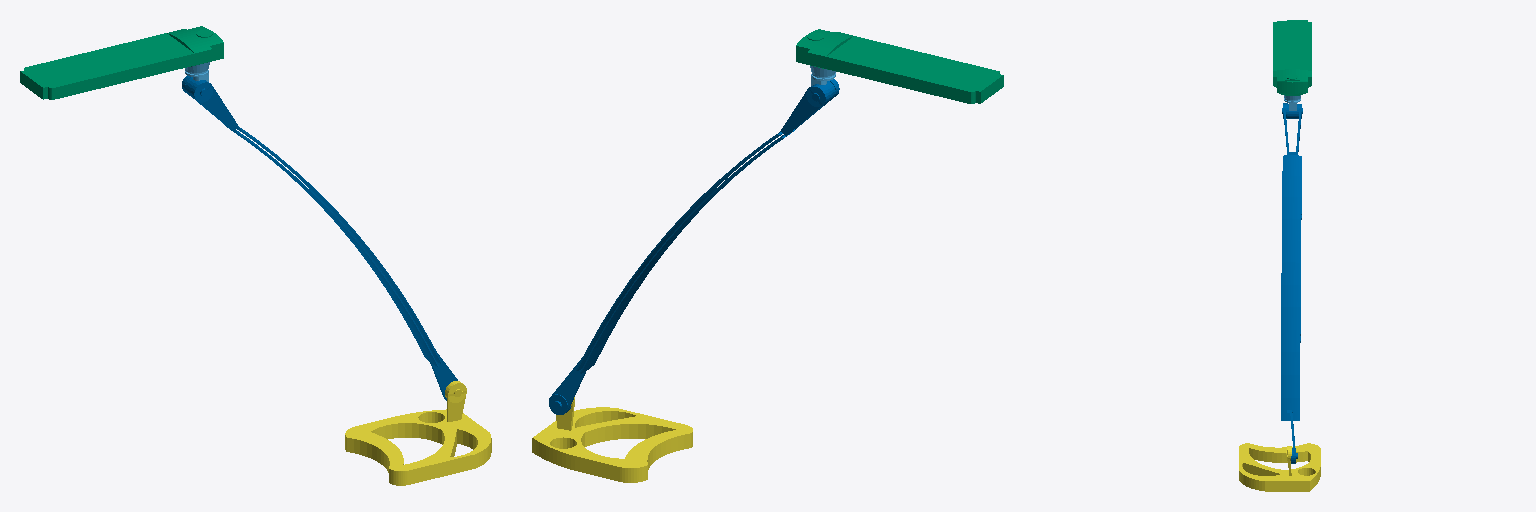
URDF robot description (partnet_7c0e5f39eeaa5d6cef9b6f306f98b0e9):
<?xml version="1.0" ?>
<robot name="partnet_7c0e5f39eeaa5d6cef9b6f306f98b0e9">
	<link name="base"/>
	<link name="link_0">
		<visual name="lamp_neck-32">
			<origin xyz="0.04417548124566981 -0.47992701720036884 -0.25464214752165326"/>
			<geometry>
				<mesh filename="textured_objs/original-5.obj"/>
			</geometry>
		</visual>
		<visual name="lamp_neck-32">
			<origin xyz="0.04417548124566981 -0.47992701720036884 -0.25464214752165326"/>
			<geometry>
				<mesh filename="textured_objs/original-11.obj"/>
			</geometry>
		</visual>
		<collision>
			<origin xyz="0.04417548124566981 -0.47992701720036884 -0.25464214752165326"/>
			<geometry>
				<mesh filename="textured_objs/original-5.obj"/>
			</geometry>
		</collision>
		<collision>
			<origin xyz="0.04417548124566981 -0.47992701720036884 -0.25464214752165326"/>
			<geometry>
				<mesh filename="textured_objs/original-11.obj"/>
			</geometry>
		</collision>
	</link>
	<joint name="joint_0" type="revolute">
		<origin xyz="-0.049152008595078775 1.1152077396443616 0.8157426850775318"/>
		<axis xyz="0.9965824550846449 0.06406323437124593 0.052147025028822"/>
		<child link="link_0"/>
		<parent link="link_3"/>
		<limit lower="-0.7853981633974483" upper="0.7853981633974483"/>
	</joint>
	<link name="link_1">
		<visual name="lamp_shade-23">
			<origin xyz="0.0212718603029297 -2.3345738997071403e-05 -0.23859540556078618"/>
			<geometry>
				<mesh filename="textured_objs/original-9.obj"/>
			</geometry>
		</visual>
		<visual name="light_bulb-31">
			<origin xyz="0.0212718603029297 -2.3345738997071403e-05 -0.23859540556078618"/>
			<geometry>
				<mesh filename="textured_objs/original-7.obj"/>
			</geometry>
		</visual>
		<collision>
			<origin xyz="0.0212718603029297 -2.3345738997071403e-05 -0.23859540556078618"/>
			<geometry>
				<mesh filename="textured_objs/original-9.obj"/>
			</geometry>
		</collision>
		<collision>
			<origin xyz="0.0212718603029297 -2.3345738997071403e-05 -0.23859540556078618"/>
			<geometry>
				<mesh filename="textured_objs/original-7.obj"/>
			</geometry>
		</collision>
	</link>
	<joint name="joint_1" type="revolute">
		<origin xyz="0.022903620942740115 -0.47990367146137175 -0.016046741960867084"/>
		<axis xyz="-0.0010974933942700111 -0.9999993977539435 0"/>
		<child link="link_1"/>
		<parent link="link_0"/>
		<limit lower="-1.5707963267948966" upper="1.5707963267948966"/>
	</joint>
	<link name="link_2">
		<visual name="lamp_base_part-26">
			<origin xyz="0 0 0"/>
			<geometry>
				<mesh filename="textured_objs/original-22.obj"/>
			</geometry>
		</visual>
		<visual name="other_leaf-17">
			<origin xyz="0 0 0"/>
			<geometry>
				<mesh filename="textured_objs/original-18.obj"/>
			</geometry>
		</visual>
		<visual name="other_leaf-17">
			<origin xyz="0 0 0"/>
			<geometry>
				<mesh filename="textured_objs/original-17.obj"/>
			</geometry>
		</visual>
		<visual name="other_leaf-17">
			<origin xyz="0 0 0"/>
			<geometry>
				<mesh filename="textured_objs/original-15.obj"/>
			</geometry>
		</visual>
		<collision>
			<origin xyz="0 0 0"/>
			<geometry>
				<mesh filename="textured_objs/original-22.obj"/>
			</geometry>
		</collision>
		<collision>
			<origin xyz="0 0 0"/>
			<geometry>
				<mesh filename="textured_objs/original-18.obj"/>
			</geometry>
		</collision>
		<collision>
			<origin xyz="0 0 0"/>
			<geometry>
				<mesh filename="textured_objs/original-17.obj"/>
			</geometry>
		</collision>
		<collision>
			<origin xyz="0 0 0"/>
			<geometry>
				<mesh filename="textured_objs/original-15.obj"/>
			</geometry>
		</collision>
	</link>
	<joint name="joint_2" type="fixed">
		<origin rpy="1.570796326794897 0 -1.570796326794897" xyz="0 0 0"/>
		<child link="link_2"/>
		<parent link="base"/>
	</joint>
	<link name="link_3">
		<visual name="lamp_arm_straight_bar-38">
			<origin xyz="-0.0049765273494089615 0.6352807224439927 0.5611005375558785"/>
			<geometry>
				<mesh filename="textured_objs/original-10.obj"/>
			</geometry>
		</visual>
		<visual name="lamp_arm_straight_bar-38">
			<origin xyz="-0.0049765273494089615 0.6352807224439927 0.5611005375558785"/>
			<geometry>
				<mesh filename="textured_objs/original-4.obj"/>
			</geometry>
		</visual>
		<visual name="lamp_arm_straight_bar-38">
			<origin xyz="-0.0049765273494089615 0.6352807224439927 0.5611005375558785"/>
			<geometry>
				<mesh filename="textured_objs/original-6.obj"/>
			</geometry>
		</visual>
		<visual name="lamp_arm_straight_bar-38">
			<origin xyz="-0.0049765273494089615 0.6352807224439927 0.5611005375558785"/>
			<geometry>
				<mesh filename="textured_objs/original-8.obj"/>
			</geometry>
		</visual>
		<visual name="lamp_arm_straight_bar-38">
			<origin xyz="-0.0049765273494089615 0.6352807224439927 0.5611005375558785"/>
			<geometry>
				<mesh filename="textured_objs/original-20.obj"/>
			</geometry>
		</visual>
		<visual name="lamp_joint-13">
			<origin xyz="-0.0049765273494089615 0.6352807224439927 0.5611005375558785"/>
			<geometry>
				<mesh filename="textured_objs/original-2.obj"/>
			</geometry>
		</visual>
		<visual name="lamp_arm_straight_bar-37">
			<origin xyz="-0.0049765273494089615 0.6352807224439927 0.5611005375558785"/>
			<geometry>
				<mesh filename="textured_objs/original-19.obj"/>
			</geometry>
		</visual>
		<visual name="lamp_arm_straight_bar-37">
			<origin xyz="-0.0049765273494089615 0.6352807224439927 0.5611005375558785"/>
			<geometry>
				<mesh filename="textured_objs/original-13.obj"/>
			</geometry>
		</visual>
		<collision>
			<origin xyz="-0.0049765273494089615 0.6352807224439927 0.5611005375558785"/>
			<geometry>
				<mesh filename="textured_objs/original-10.obj"/>
			</geometry>
		</collision>
		<collision>
			<origin xyz="-0.0049765273494089615 0.6352807224439927 0.5611005375558785"/>
			<geometry>
				<mesh filename="textured_objs/original-4.obj"/>
			</geometry>
		</collision>
		<collision>
			<origin xyz="-0.0049765273494089615 0.6352807224439927 0.5611005375558785"/>
			<geometry>
				<mesh filename="textured_objs/original-6.obj"/>
			</geometry>
		</collision>
		<collision>
			<origin xyz="-0.0049765273494089615 0.6352807224439927 0.5611005375558785"/>
			<geometry>
				<mesh filename="textured_objs/original-8.obj"/>
			</geometry>
		</collision>
		<collision>
			<origin xyz="-0.0049765273494089615 0.6352807224439927 0.5611005375558785"/>
			<geometry>
				<mesh filename="textured_objs/original-20.obj"/>
			</geometry>
		</collision>
		<collision>
			<origin xyz="-0.0049765273494089615 0.6352807224439927 0.5611005375558785"/>
			<geometry>
				<mesh filename="textured_objs/original-2.obj"/>
			</geometry>
		</collision>
		<collision>
			<origin xyz="-0.0049765273494089615 0.6352807224439927 0.5611005375558785"/>
			<geometry>
				<mesh filename="textured_objs/original-19.obj"/>
			</geometry>
		</collision>
		<collision>
			<origin xyz="-0.0049765273494089615 0.6352807224439927 0.5611005375558785"/>
			<geometry>
				<mesh filename="textured_objs/original-13.obj"/>
			</geometry>
		</collision>
	</link>
	<joint name="joint_3" type="revolute">
		<origin xyz="0.0049765273494089615 -0.6352807224439927 -0.5611005375558785"/>
		<axis xyz="0.9999050851807876 -0.00385092282875942 0.013228417251101568"/>
		<child link="link_3"/>
		<parent link="link_2"/>
		<limit lower="-0.7853981633974483" upper="0.3490658503988659"/>
	</joint>
</robot>

--- Render facts (derived) ---
Views: 3 orthographic renders of the robot side by side, from view 1: azimuth 30°, elevation 25°; view 2: azimuth 150°, elevation 25°; view 3: azimuth 270°, elevation 25°.
Robot: partnet_7c0e5f39eeaa5d6cef9b6f306f98b0e9 — 5 links, 4 joints (3 revolute, 1 fixed); root link base; default pose: every joint at zero.
Visible links, largest first — view 1: link_1, link_2, link_3; view 2: link_1, link_2, link_3; view 3: link_3, link_2, link_1.
Link boxes in pixels (<box>): link_1: <box>20,26,223,99</box>; link_2: <box>345,381,491,485</box>; link_3: <box>182,75,457,400</box>; link_1: <box>796,29,1003,103</box>; link_2: <box>532,397,692,482</box>; link_3: <box>549,79,839,414</box>; link_3: <box>1281,103,1302,463</box>; link_2: <box>1239,443,1320,491</box>; link_1: <box>1273,20,1311,95</box>.
Bounding box of the posed robot: 1.39 × 0.3223 × 1.41 m (x, y, z).
16 mesh visuals loaded from 16 distinct referenced files (16 OBJ).
